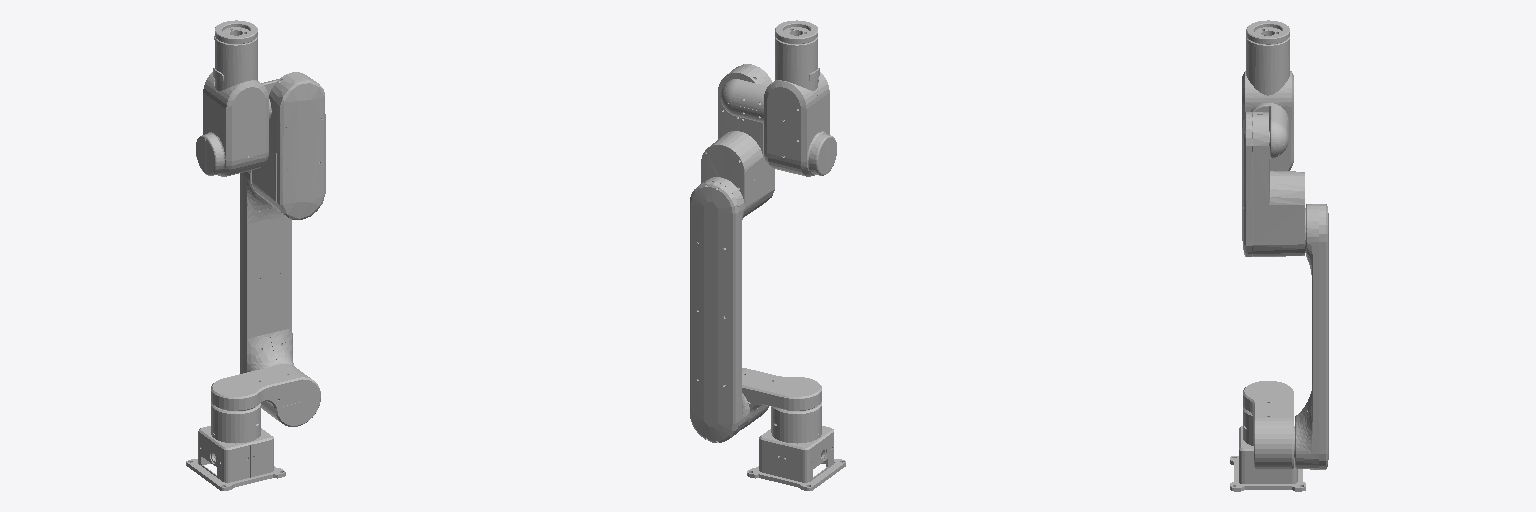
robot.urdf — spark2_v2_2:
<?xml version="1.0" encoding="utf-8"?>
<!-- This URDF was automatically created by SolidWorks to URDF Exporter! Originally created by Stephen Brawner (brawner@gmail.com) 
     Commit Version: 1.6.0-4-g7f85cfe  Build Version: 1.6.7995.38578
     For more information, please see http://wiki.ros.org/sw_urdf_exporter -->
<robot
  name="spark2_v2_2">
  <link
    name="base_link">
    <inertial>
      <origin
        xyz="0.000678366020361619 0.000650450303024658 0.0419206716961152"
        rpy="0 0 0" />
      <mass
        value="0.415365145484454" />
      <inertia
        ixx="0.000521278292861762"
        ixy="2.21370688018714E-06"
        ixz="3.53401377721654E-07"
        iyy="0.000499821552472947"
        iyz="1.19059750488371E-07"
        izz="0.000640044292539751" />
    </inertial>
    <visual>
      <origin
        xyz="0 0 0"
        rpy="0 0 0" />
      <geometry>
        <mesh
          filename="meshes/base_link.obj" />
      </geometry>
      <material
        name="">
        <color
          rgba="0.752941176470588 0.752941176470588 0.752941176470588 1" />
      </material>
    </visual>
    <collision>
      <origin
        xyz="0 0 0"
        rpy="0 0 0" />
      <geometry>
        <mesh
          filename="meshes/base_link.obj" />
      </geometry>
    </collision>
  </link>
  <link
    name="L1">
    <inertial>
      <origin
        xyz="0.0523118115572577 0.00594580107075411 0.00983465410868319"
        rpy="0 0 0" />
      <mass
        value="0.534905861017287" />
      <inertia
        ixx="0.000276838854041804"
        ixy="-4.31570539270566E-05"
        ixz="0.000115785773545033"
        iyy="0.000833335936719246"
        iyz="1.45298376550128E-05"
        izz="0.00081293822684724" />
    </inertial>
    <visual>
      <origin
        xyz="0 0 0"
        rpy="0 0 0" />
      <geometry>
        <mesh
          filename="meshes/L1.obj" />
      </geometry>
      <material
        name="">
        <color
          rgba="0.752941176470588 0.752941176470588 0.752941176470588 1" />
      </material>
    </visual>
    <collision>
      <origin
        xyz="0 0 0"
        rpy="0 0 0" />
      <geometry>
        <mesh
          filename="meshes/L1.obj" />
      </geometry>
    </collision>
  </link>
  <joint
    name="J1"
    type="revolute">
    <origin
      xyz="0 0 0.0982000000000019"
      rpy="0 0 0" />
    <parent
      link="base_link" />
    <child
      link="L1" />
    <axis
      xyz="0 0 1" />
    <limit
      lower="-3.1416"
      upper="3.1416"
      effort="0"
      velocity="0" />
  </joint>
  <link
    name="L2">
    <inertial>
      <origin
        xyz="0.178655385833371 1.16424483877497E-05 0.0695175784974708"
        rpy="0 0 0" />
      <mass
        value="1.04321954132946" />
      <inertia
        ixx="0.000510824708514096"
        ixy="-1.32571036792121E-06"
        ixz="0.000200596291448722"
        iyy="0.0114932589328011"
        iyz="4.43270884571876E-10"
        izz="0.0118746553216229" />
    </inertial>
    <visual>
      <origin
        xyz="0 0 0"
        rpy="0 0 0" />
      <geometry>
        <mesh
          filename="meshes/L2.obj" />
      </geometry>
      <material
        name="">
        <color
          rgba="0.752941176470588 0.752941176470588 0.752941176470588 1" />
      </material>
    </visual>
    <collision>
      <origin
        xyz="0 0 0"
        rpy="0 0 0" />
      <geometry>
        <mesh
          filename="meshes/L2.obj" />
      </geometry>
    </collision>
  </link>
  <joint
    name="J2"
    type="revolute">
    <origin
      xyz="0.096 0 0"
      rpy="-1.5708 -1.5708 0" />
    <parent
      link="L1" />
    <child
      link="L2" />
    <axis
      xyz="0 0 1" />
    <limit
      lower="-1.5708"
      upper="1.5708"
      effort="0"
      velocity="0" />
  </joint>
  <link
    name="L3">
    <inertial>
      <origin
        xyz="0.0685427075960562 3.46478452044191E-05 -0.000250345774393589"
        rpy="0 0 0" />
      <mass
        value="0.604374693422943" />
      <inertia
        ixx="0.00024224305007648"
        ixy="-8.02501252967998E-08"
        ixz="4.44546348099807E-05"
        iyy="0.00111923550432159"
        iyz="-7.1946457438659E-08"
        izz="0.00122911861120972" />
    </inertial>
    <visual>
      <origin
        xyz="0 0 0"
        rpy="0 0 0" />
      <geometry>
        <mesh
          filename="meshes/L3.obj" />
      </geometry>
      <material
        name="">
        <color
          rgba="0.752941176470588 0.752941176470588 0.752941176470588 1" />
      </material>
    </visual>
    <collision>
      <origin
        xyz="0 0 0"
        rpy="0 0 0" />
      <geometry>
        <mesh
          filename="meshes/L3.obj" />
      </geometry>
    </collision>
  </link>
  <joint
    name="J3"
    type="revolute">
    <origin
      xyz="0.3465 0 0"
      rpy="0 0 0" />
    <parent
      link="L2" />
    <child
      link="L3" />
    <axis
      xyz="0 0 1" />
    <limit
      lower="-3.1416"
      upper="3.1416"
      effort="0"
      velocity="0" />
  </joint>
  <link
    name="L4">
    <inertial>
      <origin
        xyz="3.85035658024835E-05 -0.0307497533444185 0.00771455130180919"
        rpy="0 0 0" />
      <mass
        value="0.0680910386855528" />
      <inertia
        ixx="5.02370842959246E-05"
        ixy="2.17941257400551E-08"
        ixz="-5.00505821446486E-09"
        iyy="1.3185332173706E-05"
        iyz="-5.35376641377241E-06"
        izz="4.80704614940244E-05" />
    </inertial>
    <visual>
      <origin
        xyz="0 0 0"
        rpy="0 0 0" />
      <geometry>
        <mesh
          filename="meshes/L4.obj" />
      </geometry>
      <material
        name="">
        <color
          rgba="0.752941176470588 0.752941176470588 0.752941176470588 1" />
      </material>
    </visual>
    <collision>
      <origin
        xyz="0 0 0"
        rpy="0 0 0" />
      <geometry>
        <mesh
          filename="meshes/L4.obj" />
      </geometry>
    </collision>
  </link>
  <joint
    name="J4"
    type="revolute">
    <origin
      xyz="0.15 0 0"
      rpy="0 0 0" />
    <parent
      link="L3" />
    <child
      link="L4" />
    <axis
      xyz="0 0 1" />
    <limit
      lower="-0.1745"
      upper="3.1416"
      effort="0"
      velocity="0" />
  </joint>
  <link
    name="L5">
    <inertial>
      <origin
        xyz="6.5958025867564E-06 -0.00964895937031807 -0.000559142359287028"
        rpy="0 0 0" />
      <mass
        value="0.666007703225141" />
      <inertia
        ixx="0.000648028666449104"
        ixy="1.19136949417991E-07"
        ixz="-2.20406752608483E-07"
        iyy="0.00031206466544187"
        iyz="7.07164219256724E-06"
        izz="0.000664872886215904" />
    </inertial>
    <visual>
      <origin
        xyz="0 0 0"
        rpy="0 0 0" />
      <geometry>
        <mesh
          filename="meshes/L5.obj" />
      </geometry>
      <material
        name="">
        <color
          rgba="0.752941176470588 0.752941176470588 0.752941176470588 1" />
      </material>
    </visual>
    <collision>
      <origin
        xyz="0 0 0"
        rpy="0 0 0" />
      <geometry>
        <mesh
          filename="meshes/L5.obj" />
      </geometry>
    </collision>
  </link>
  <joint
    name="J5"
    type="revolute">
    <origin
      xyz="0 -0.09572 0"
      rpy="1.5708 -1.5708 0" />
    <parent
      link="L4" />
    <child
      link="L5" />
    <axis
      xyz="0 0 1" />
    <limit
      lower="-3.1416"
      upper="3.1416"
      effort="0"
      velocity="0" />
  </joint>
  <link
    name="L6">
    <inertial>
      <origin
        xyz="3.69716788001396E-15 -2.31531373934279E-16 0.00822650479261355"
        rpy="0 0 0" />
      <mass
        value="0.0600936238717863" />
      <inertia
        ixx="1.88959303343739E-05"
        ixy="5.03820847703936E-22"
        ixz="-4.24468440030164E-21"
        iyy="1.88959303343739E-05"
        iyz="-3.47054644732753E-22"
        izz="3.62039072584336E-05" />
    </inertial>
    <visual>
      <origin
        xyz="0 0 0"
        rpy="0 0 0" />
      <geometry>
        <mesh
          filename="meshes/L6.obj" />
      </geometry>
      <material
        name="">
        <color
          rgba="0.752941176470588 0.752941176470588 0.752941176470588 1" />
      </material>
    </visual>
    <collision>
      <origin
        xyz="0 0 0"
        rpy="0 0 0" />
      <geometry>
        <mesh
          filename="meshes/L6.obj" />
      </geometry>
    </collision>
  </link>
  <joint
    name="J6"
    type="revolute">
    <origin
      xyz="0 -0.1189 0"
      rpy="1.5708 0 0" />
    <parent
      link="L5" />
    <child
      link="L6" />
    <axis
      xyz="0 0 1" />
    <limit
      lower="-6.2832"
      upper="6.2832"
      effort="0"
      velocity="0" />
  </joint>
  <link name="arm_end_effector">
  </link>
  <joint name="J7" type="fixed">
    <origin rpy="0 0 0" xyz="0 0 0"/>
    <parent link="L6"/>
    <child link="arm_end_effector"/>
  </joint>
</robot>

--- Facts derived from the render (not from the file) ---
The picture shows the robot from 3 angles, left to right: view 1: azimuth 30°, elevation 25°; view 2: azimuth 150°, elevation 25°; view 3: azimuth 270°, elevation 25°; orthographic projection.
Model spark2_v2_2 with 8 links and 7 joints (6 revolute, 1 fixed), rooted at base_link, posed all joints at 0.
Links seen in each view (by area): view 1: L2, L3, L5, base_link, L1, L6; view 2: L2, L5, L3, base_link, L1, L4, L6; view 3: L3, L2, L1, L5, base_link, L4, L6.
Link boxes in pixels (box(x1,y1,x2,y2)): L2: box(240, 170, 294, 373); L3: box(252, 72, 325, 219); L5: box(196, 35, 268, 176); base_link: box(186, 402, 285, 490); L1: box(211, 364, 320, 426); L6: box(215, 20, 257, 43); L2: box(690, 177, 749, 442); L5: box(764, 35, 836, 176); L3: box(701, 64, 774, 217); base_link: box(747, 402, 845, 490); L1: box(742, 368, 821, 428); L4: box(721, 79, 767, 122); L6: box(775, 20, 817, 43); L3: box(1242, 112, 1304, 256); L2: box(1295, 204, 1328, 469); L1: box(1243, 381, 1294, 469); L5: box(1242, 35, 1293, 170); base_link: box(1230, 407, 1305, 491); L4: box(1251, 103, 1288, 158); L6: box(1246, 20, 1289, 44).
Size in the robot's own frame: 0.192 by 0.1468 by 0.7282 metres.
7 mesh visuals loaded from 7 distinct referenced files (7 OBJ).
